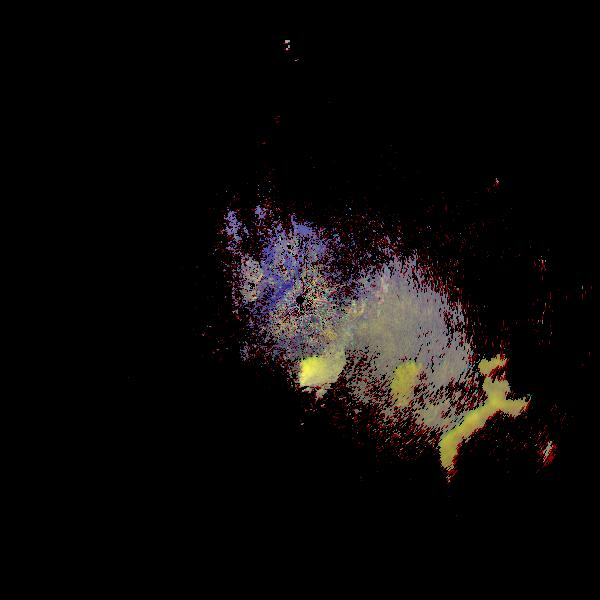roost: (412, 370, 600, 568), (358, 333, 520, 495)
